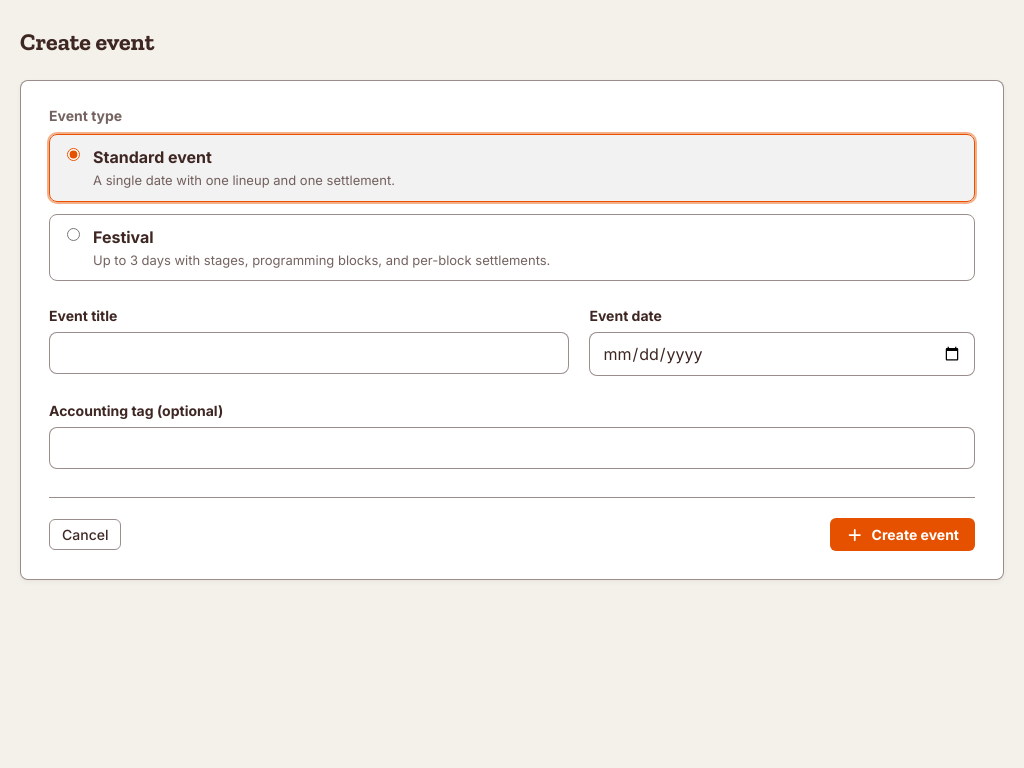
Test: EventFormPanel › requires a festival name
The image size is (1024, 768).
Click the radio button with test id "event-type-festival": (74, 234) [67, 228, 80, 241]
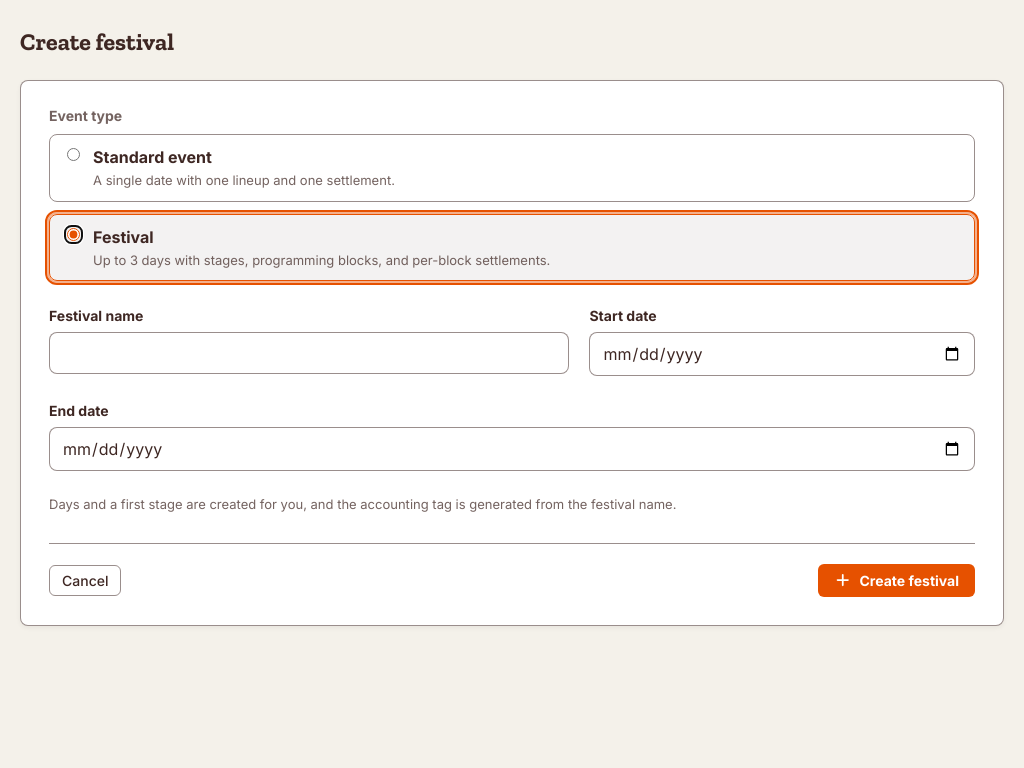
In the date field labelled "Start date": (782, 354) [590, 332, 975, 376], type "2026-08-14"
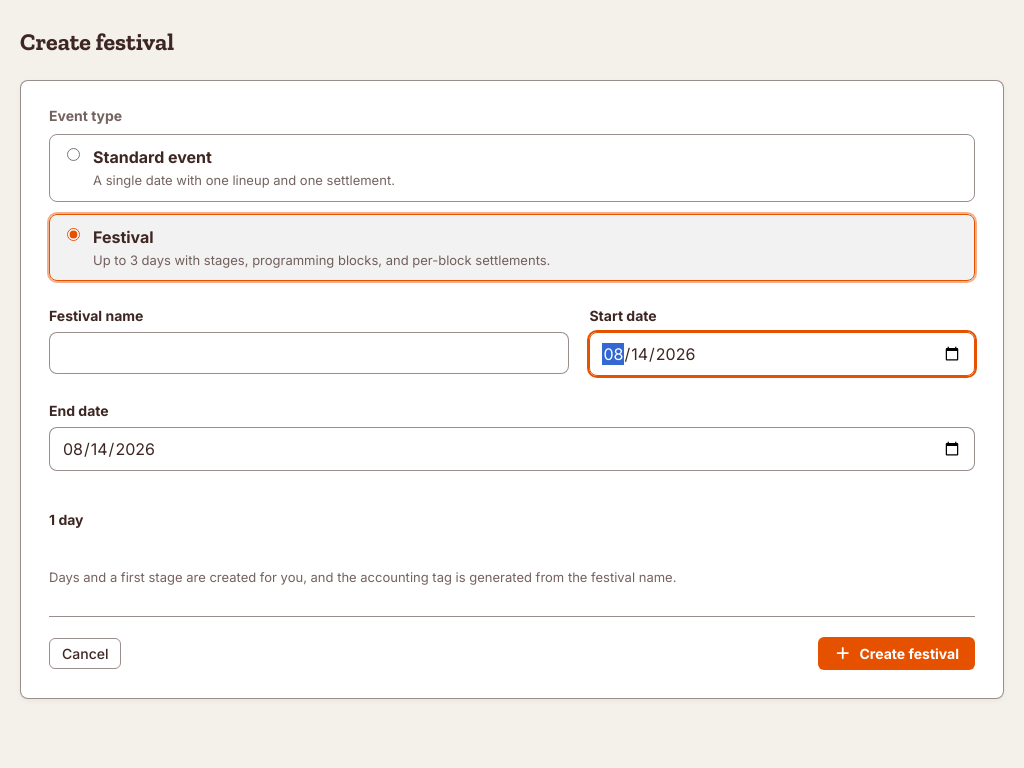
Click the button "Create festival": (896, 653) [818, 636, 975, 670]
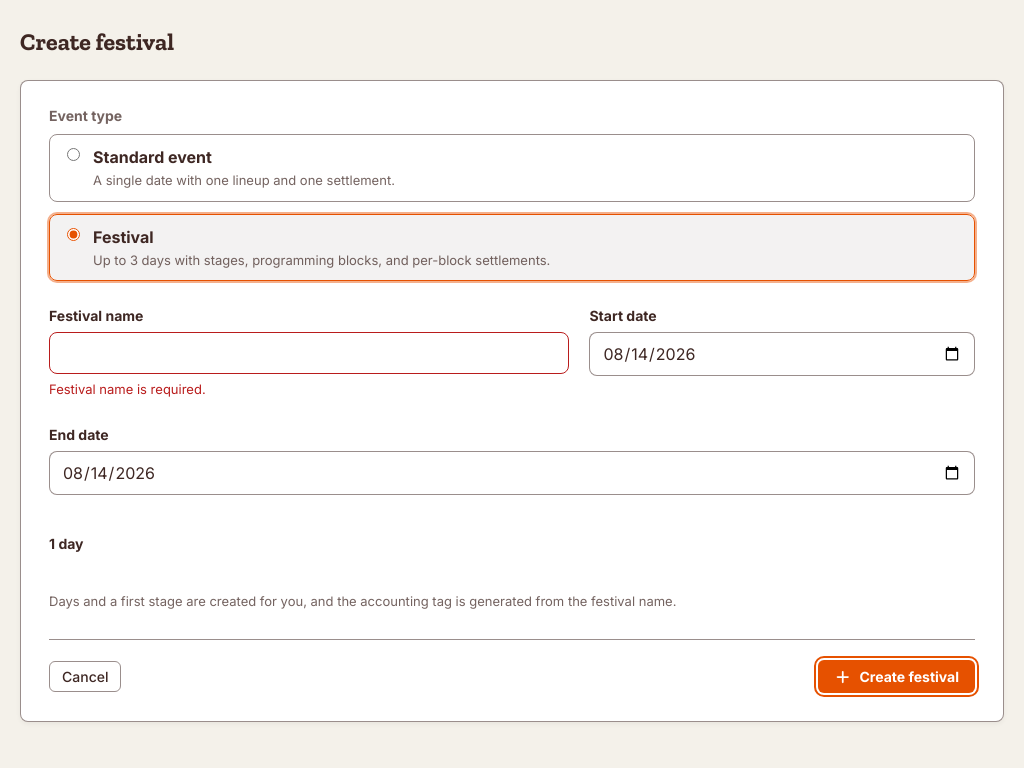
Check: the text "Festival name is required." is shown, box [49, 381, 206, 397]
